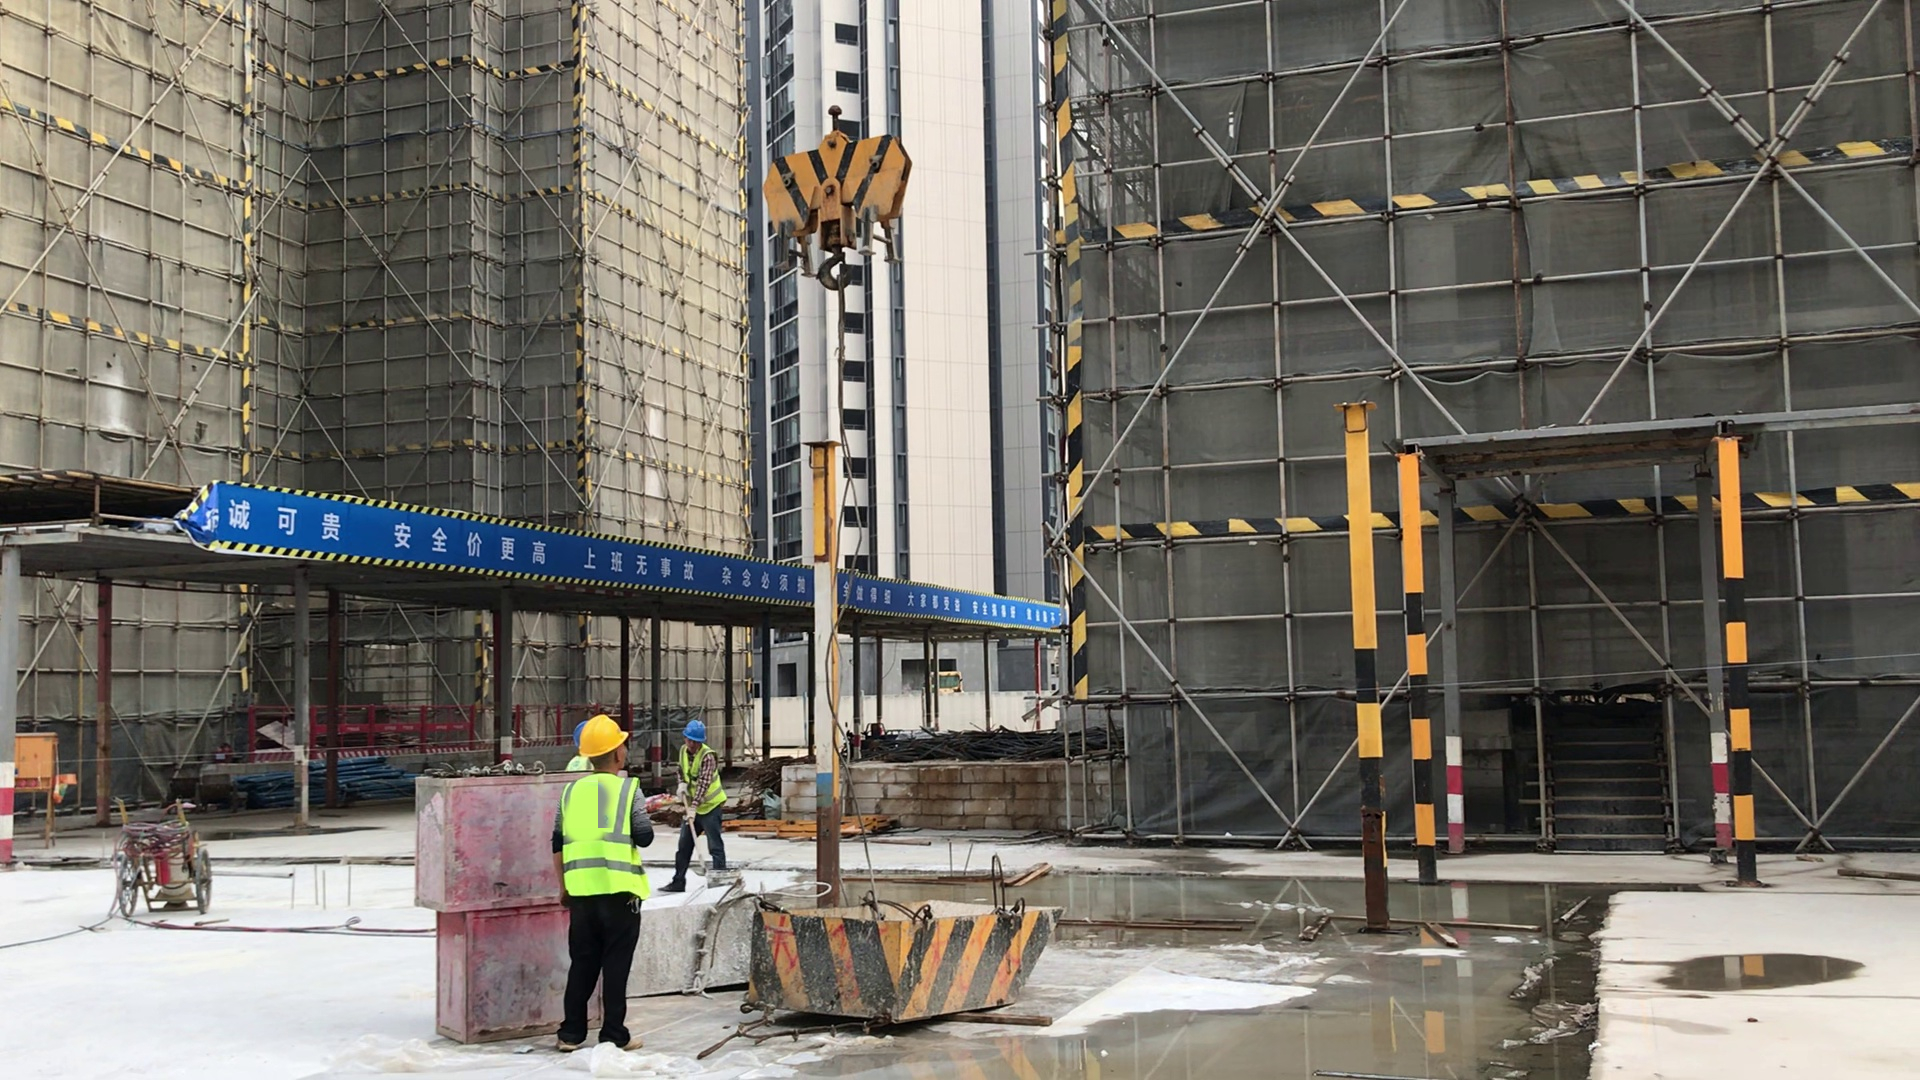ebox: (1, 719, 59, 806)
fence: (234, 686, 607, 763)
helmet: (571, 713, 622, 757), (691, 720, 715, 738)
hook: (747, 111, 918, 301)
hopper: (722, 878, 1063, 1023), (604, 885, 778, 1002)
person: (556, 704, 656, 1056), (669, 702, 734, 895)
slogan: (189, 472, 1078, 649)
vest: (556, 765, 629, 901), (666, 742, 732, 817)
